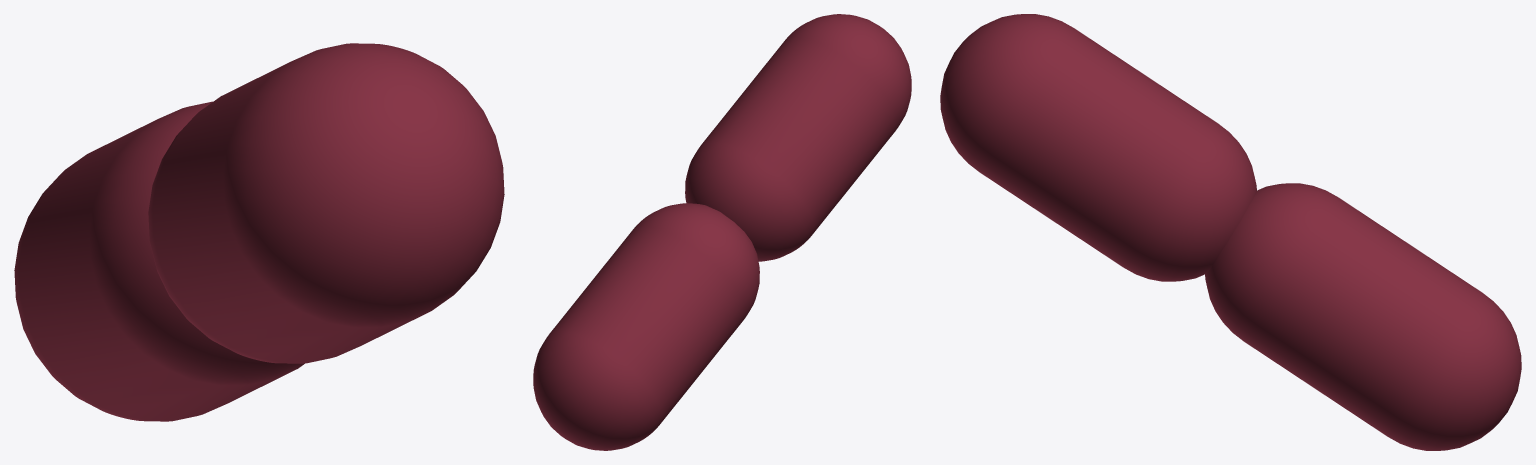
File: diplobacilli.glb
The picture shows the model from 3 angles, left to right: view 1: azimuth 30°, elevation 25°; view 2: azimuth 150°, elevation 25°; view 3: azimuth 270°, elevation 25°; orthographic projection. The views are drawn at different scales.
Visible parts, largest first — view 1: Sphere.001, Sphere; view 2: Sphere, Sphere.001; view 3: Sphere.001, Sphere.
Part boxes in pixels (x1,y1,x2,y2): Sphere.001: (148, 43, 504, 363); Sphere: (14, 101, 304, 421); Sphere: (533, 203, 759, 450); Sphere.001: (685, 14, 911, 261); Sphere.001: (940, 14, 1256, 281); Sphere: (1205, 183, 1521, 450).
Size of the model in its own units: 2.05 by 3.25 by 4.48.
